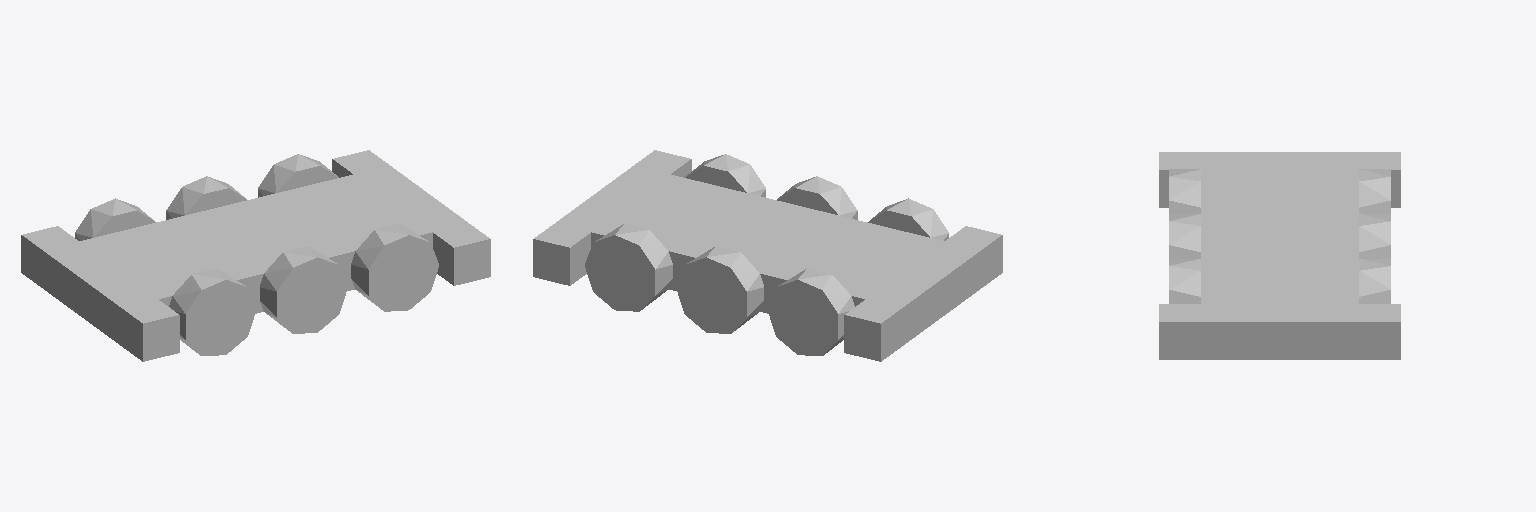
The model's file is Tank Chassis 1.obj.
3 renders of one model, left to right at view 1: azimuth 30°, elevation 25°; view 2: azimuth 150°, elevation 25°; view 3: azimuth 270°, elevation 25°, orthographic.
Parts seen in each view (by area): view 1: Solid1; view 2: Solid1; view 3: Solid1.
Part boxes in pixels (bbox=[...]): Solid1: bbox=[21, 150, 490, 361]; Solid1: bbox=[533, 150, 1002, 361]; Solid1: bbox=[1159, 152, 1400, 359].
Size of the model in its own units: 38 by 7.88 by 23.